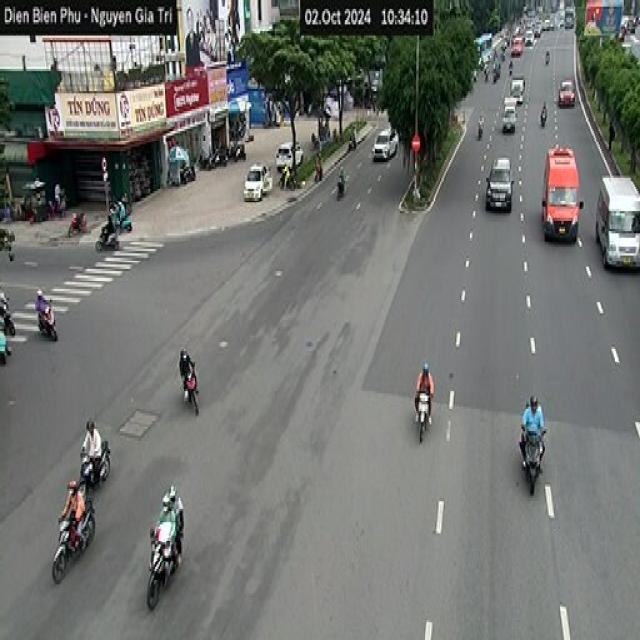car: (594, 174, 640, 273), (545, 146, 578, 247), (487, 148, 513, 219), (242, 162, 270, 199), (275, 142, 307, 171), (374, 130, 401, 161), (559, 78, 577, 107), (509, 36, 523, 57)
motorcycle: (45, 500, 101, 590), (144, 535, 180, 611), (520, 429, 546, 498), (72, 445, 112, 487), (181, 375, 204, 419), (415, 388, 432, 444), (35, 310, 62, 343), (105, 213, 135, 237), (95, 230, 121, 256), (0, 306, 18, 343), (0, 327, 14, 369), (67, 210, 91, 234)
person: (63, 478, 84, 543), (84, 414, 103, 481), (177, 349, 200, 395), (168, 478, 184, 543), (522, 388, 544, 434), (158, 491, 174, 543), (418, 352, 433, 396), (115, 192, 127, 237), (32, 288, 48, 317), (51, 179, 64, 207)
truck: (501, 97, 516, 135), (510, 75, 526, 107)
